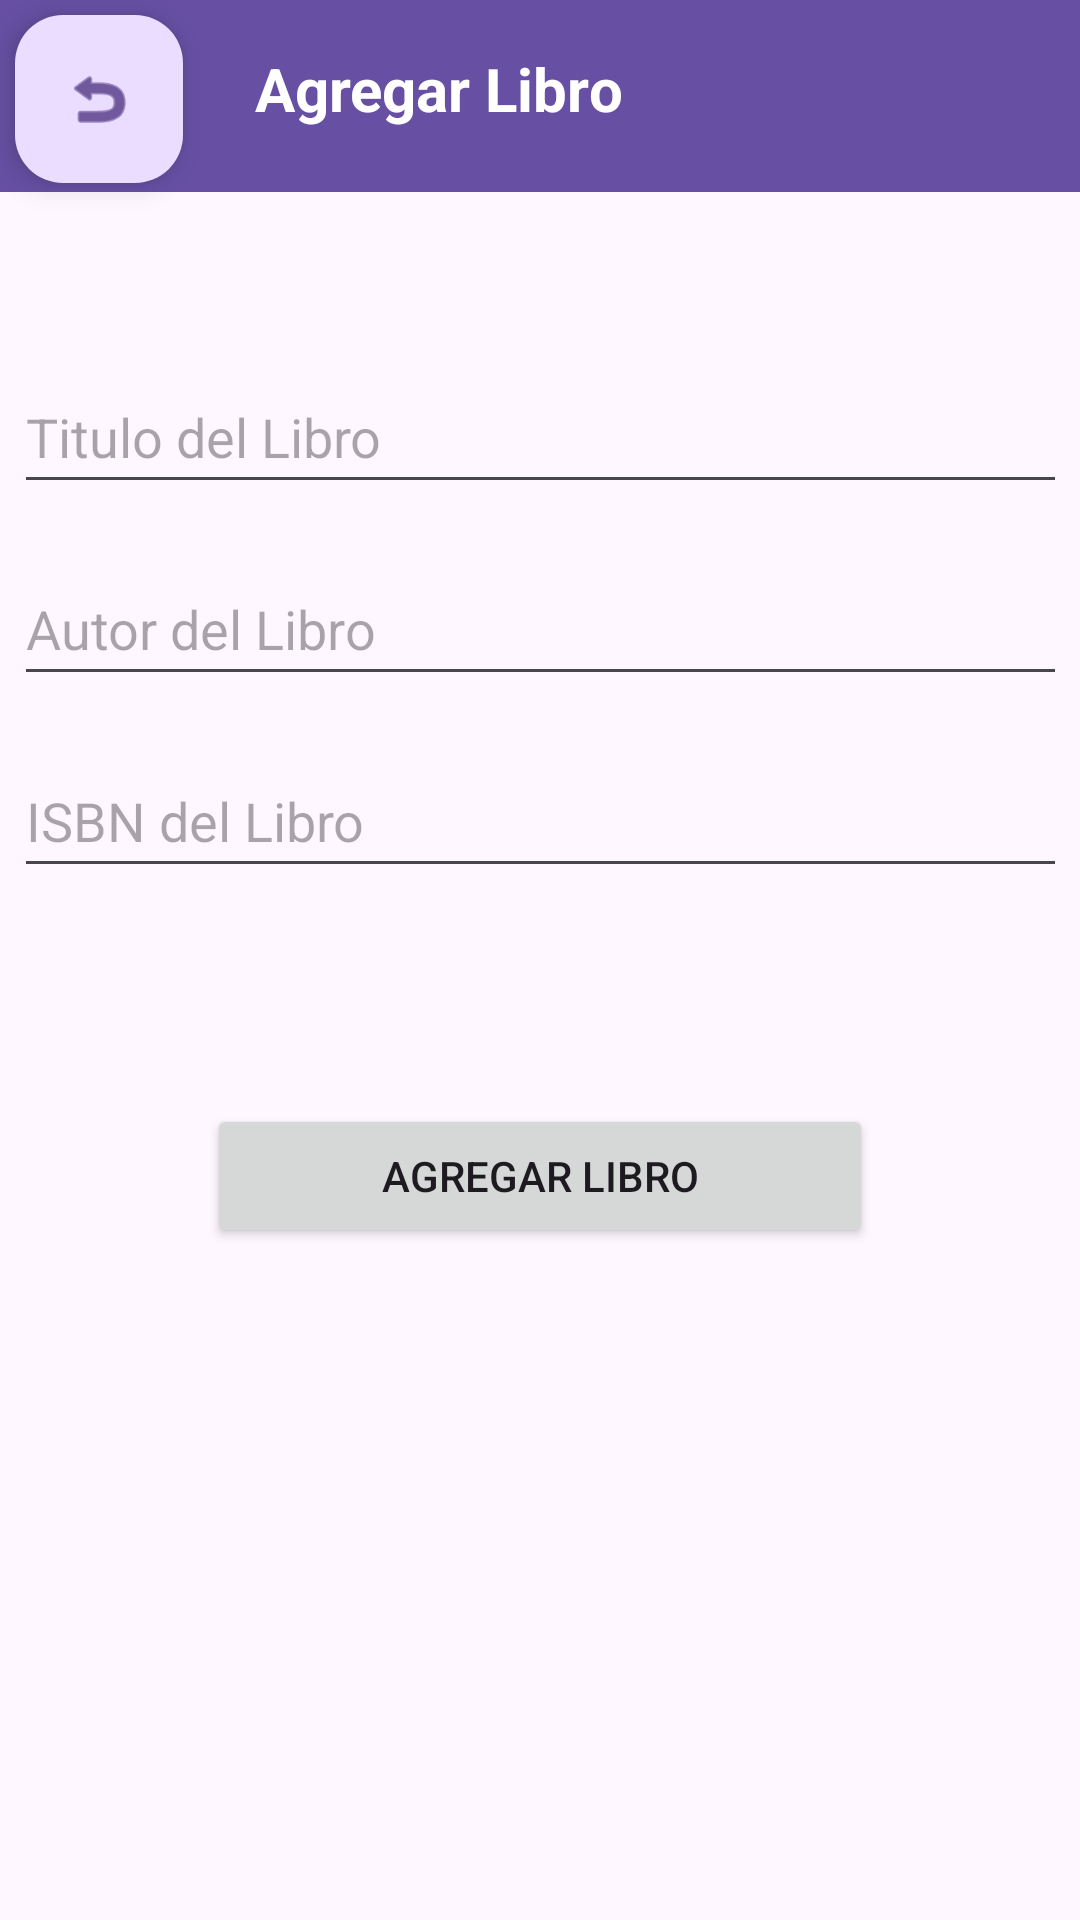

Screen size 1080 × 1920. Icon name, then its box in pixels as {"left": x1, "top": y1, "right": x2, "bottom": y2}:
revert: {"left": 15, "top": 15, "right": 183, "bottom": 183}
